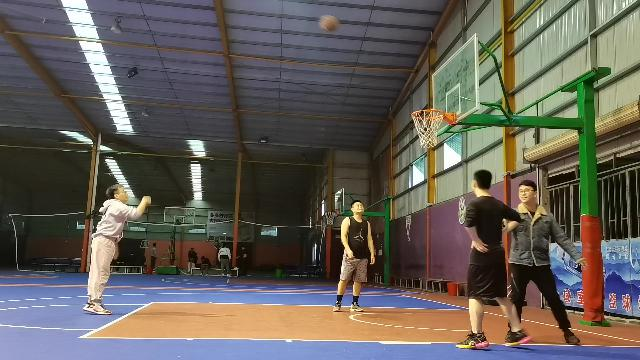ball: (318, 13, 338, 32)
basket: (410, 109, 444, 147), (324, 209, 334, 224)
